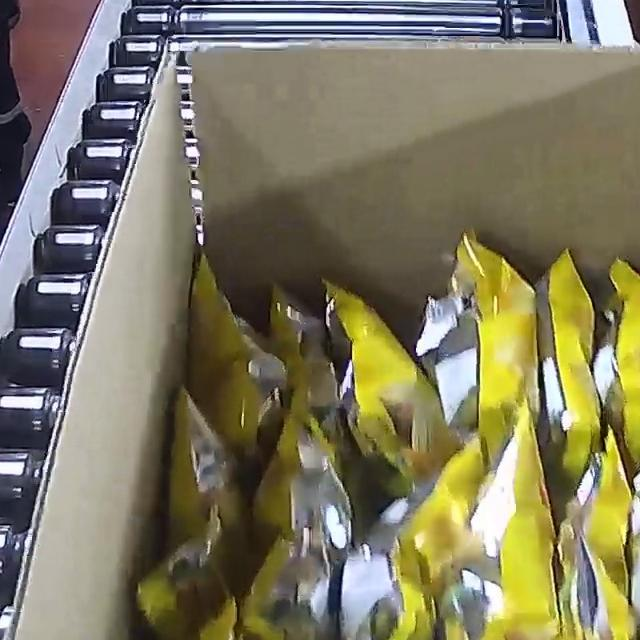salted: (111, 226, 640, 640)
